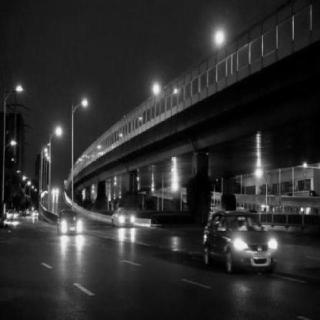other: (245, 138, 267, 181), (163, 157, 183, 199)
